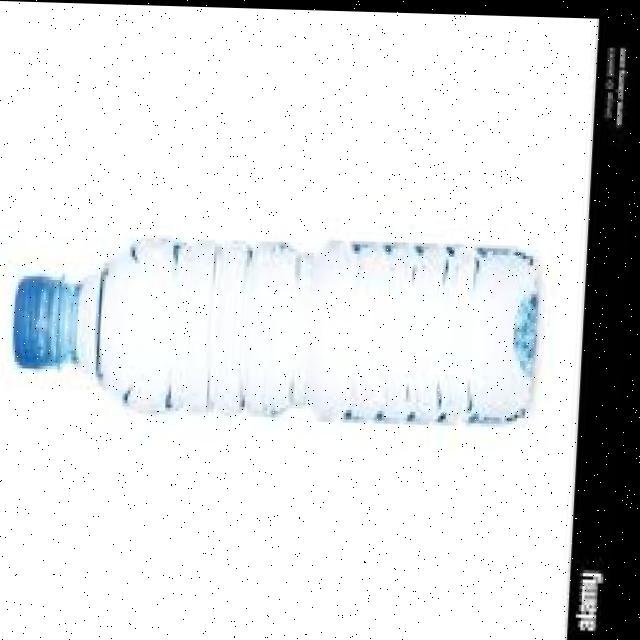bottle: (0, 182, 586, 456)
